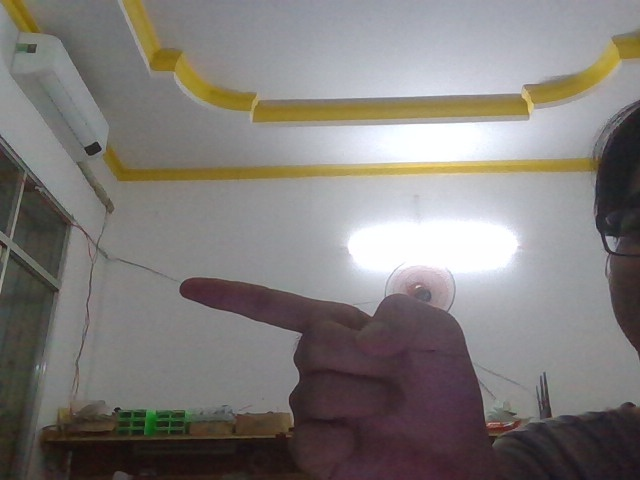turn_right: (157, 261, 512, 480)
